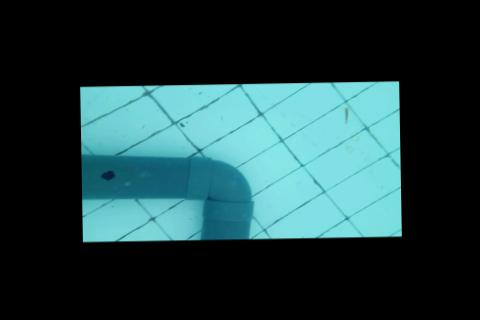kebocoran: (99, 170, 115, 182)
